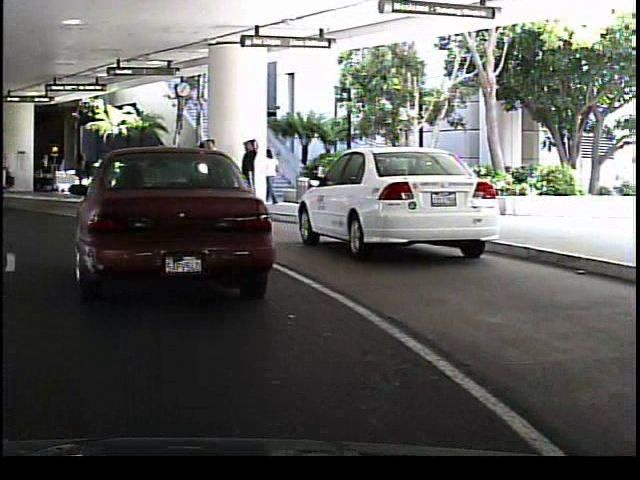person: (194, 133, 220, 208), (237, 134, 259, 210), (71, 149, 90, 202), (87, 156, 111, 196), (265, 145, 279, 204)
